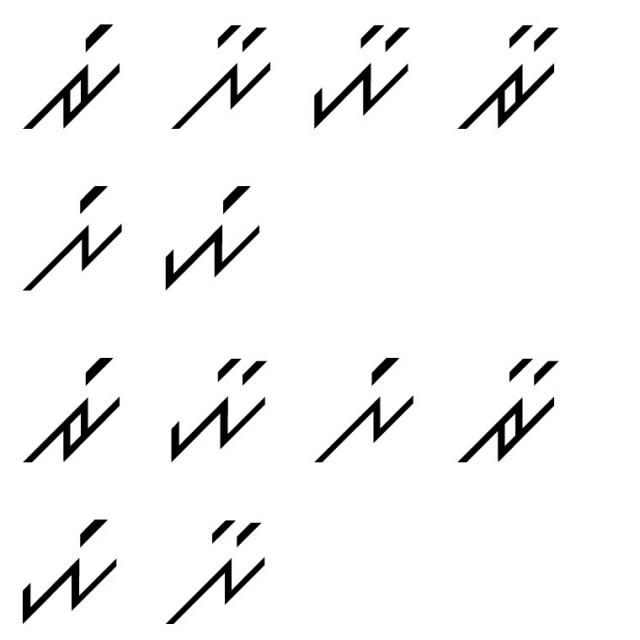lan: (156, 511, 276, 633), (159, 19, 281, 139)
lang: (310, 353, 423, 477), (12, 181, 130, 298)
ran: (443, 19, 564, 145), (456, 350, 569, 468)
rang: (11, 16, 129, 140), (19, 347, 130, 468)
yan: (152, 349, 276, 474), (299, 19, 418, 134)
yang: (154, 183, 270, 303), (9, 511, 127, 625)
